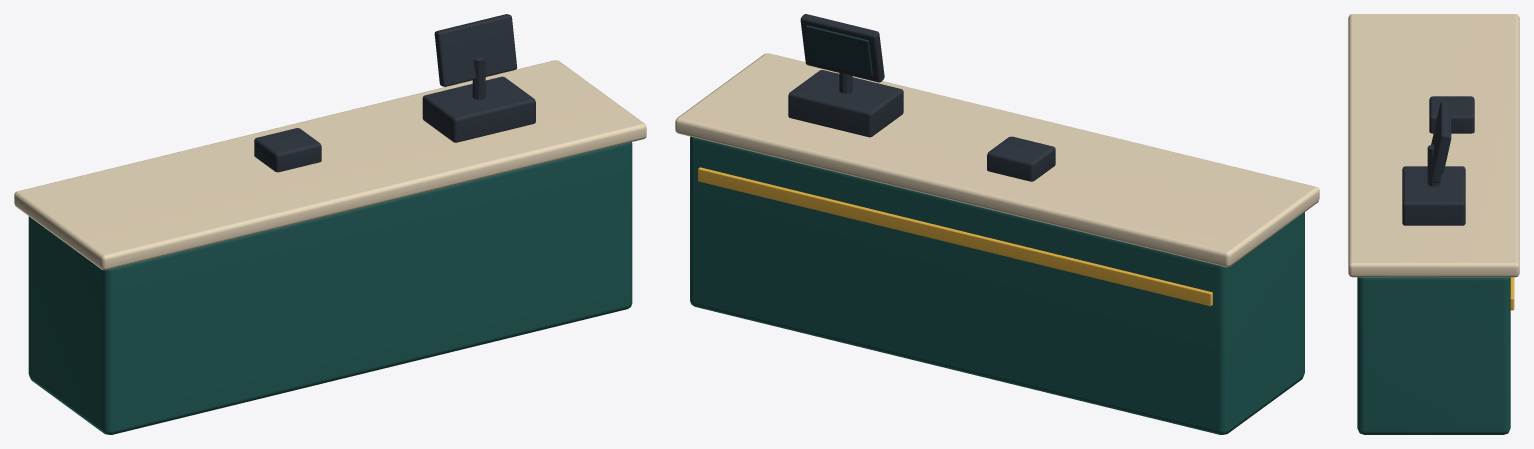
File: checkout-counter.glb
3 views of the same model, side by side, from view 1: azimuth 30°, elevation 25°; view 2: azimuth 150°, elevation 25°; view 3: azimuth 270°, elevation 25° (orthographic). The views are drawn at different scales.
Visible parts, largest first — view 1: interior-teal, interior-cream, interior-navy; view 2: interior-teal, interior-cream, interior-navy, interior-yellow, interior-screen; view 3: interior-cream, interior-teal, interior-navy.
Part boxes in pixels (box(x1,y1,x2,y2)): interior-teal: box(28, 142, 632, 434); interior-cream: box(14, 60, 646, 270); interior-navy: box(254, 14, 535, 172); interior-teal: box(690, 136, 1304, 434); interior-cream: box(675, 53, 1319, 267); interior-navy: box(788, 14, 1055, 181); interior-yellow: box(698, 167, 1212, 306); interior-screen: box(806, 25, 872, 75); interior-cream: box(1348, 14, 1519, 277); interior-teal: box(1357, 277, 1510, 434); interior-navy: box(1402, 96, 1474, 225).
Size of the model in its own units: 3.3 by 1.63 by 0.95.
